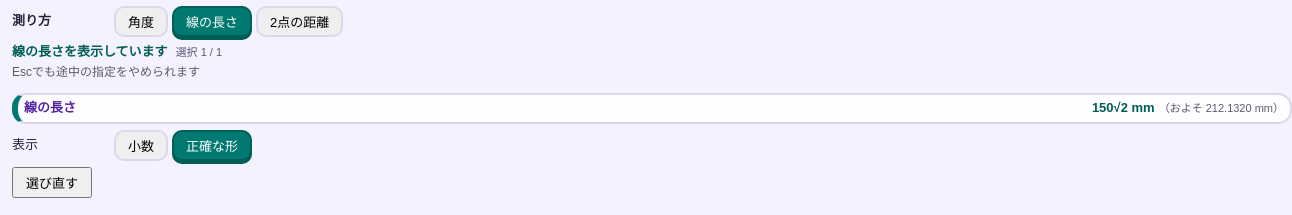
Test: 測る道具の下部パネル › 線の正確な長さを根号とおよその小数で示し、1回で小数へ切り替える
The image size is (1292, 215).
Expected: the text "150√2 mm" is shown, [1092, 99, 1155, 118]
Expected: the text "およそ 212.1320 mm" is shown, [1170, 102, 1273, 114]
Click the button "小数" at point(141, 146), box [114, 130, 168, 161]
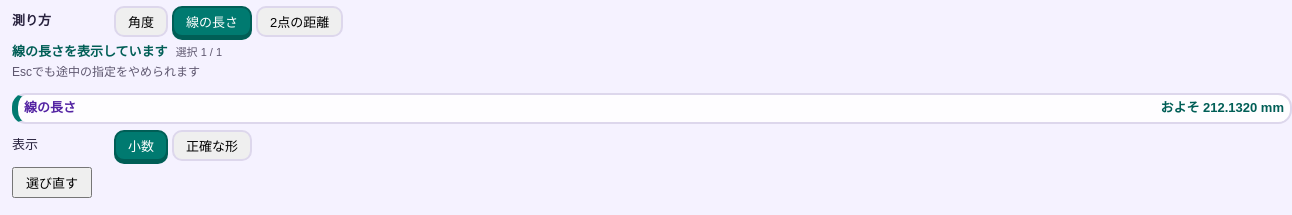
Now the text "150√2 mm" is gone
Now the text "およそ 212.1320 mm" is shown, box [1160, 99, 1284, 118]
